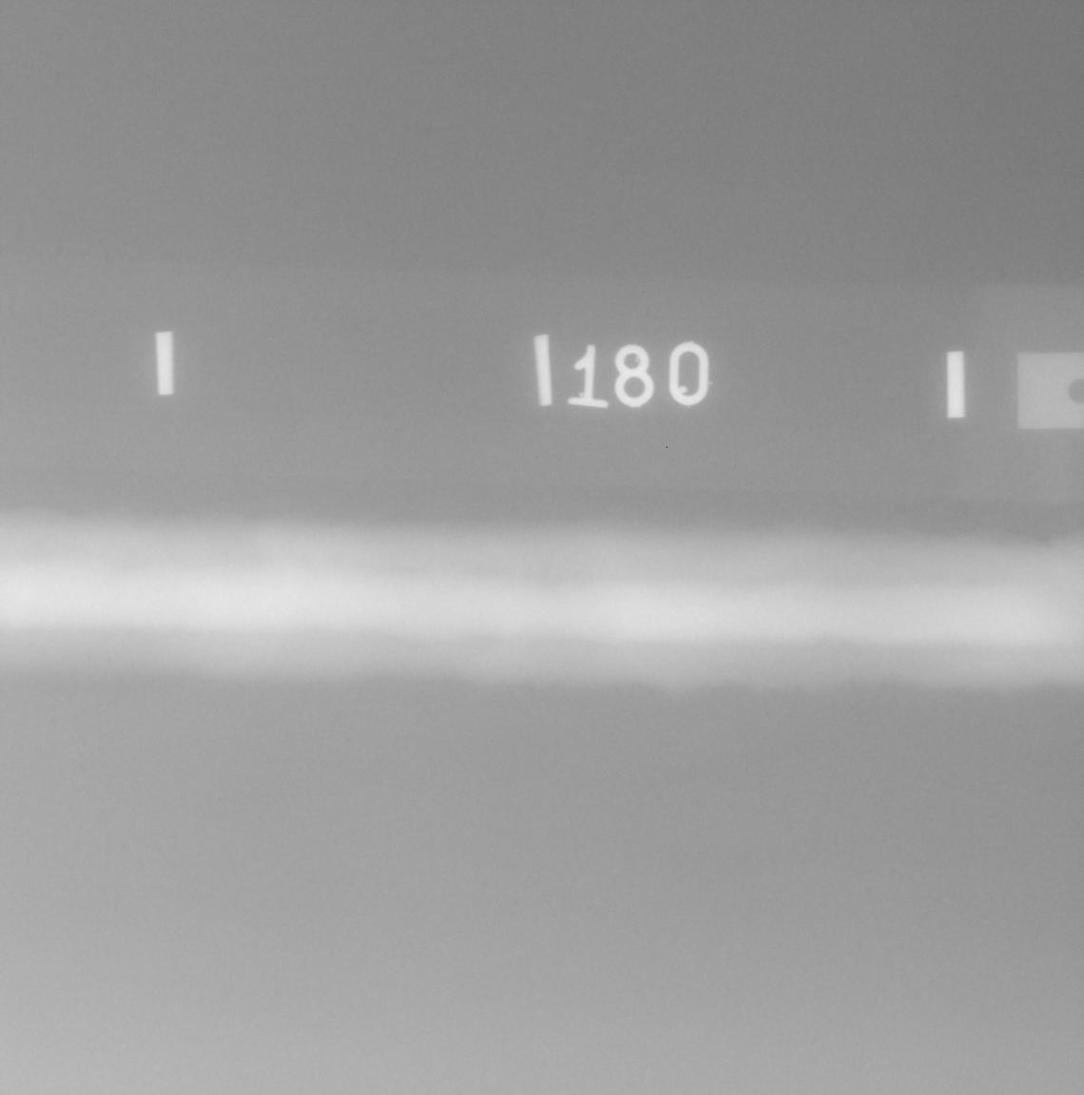Pore/Porosity: (639, 589, 643, 596), (914, 592, 917, 597)
